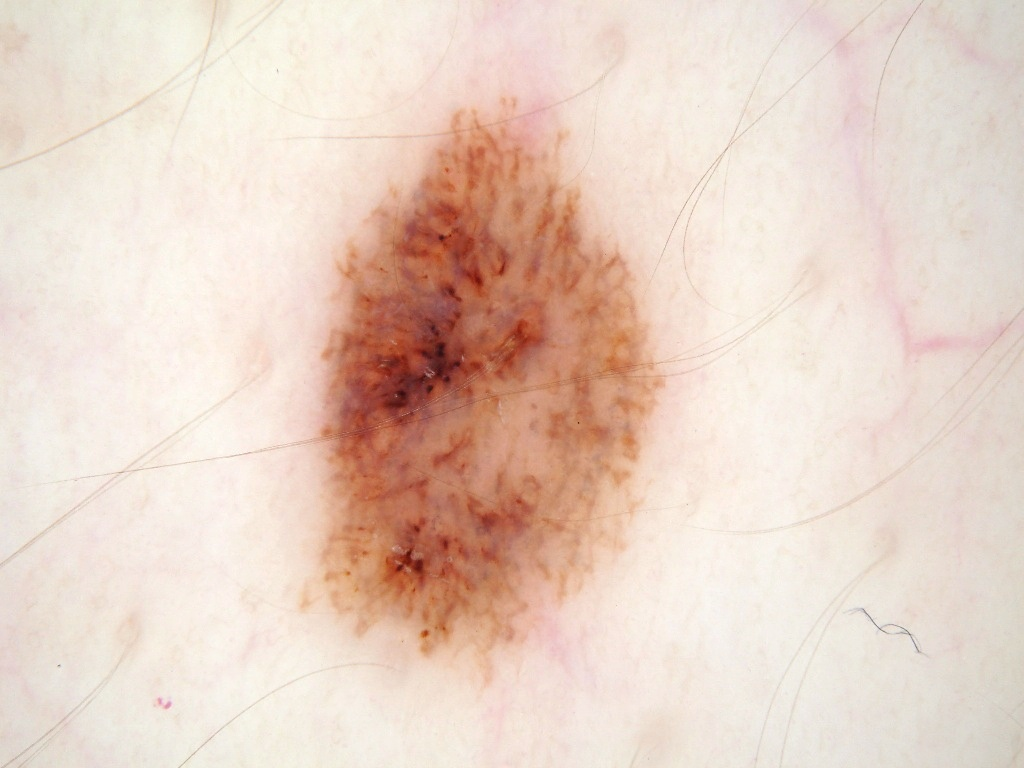Detected Lesion: (302, 96, 666, 685)
